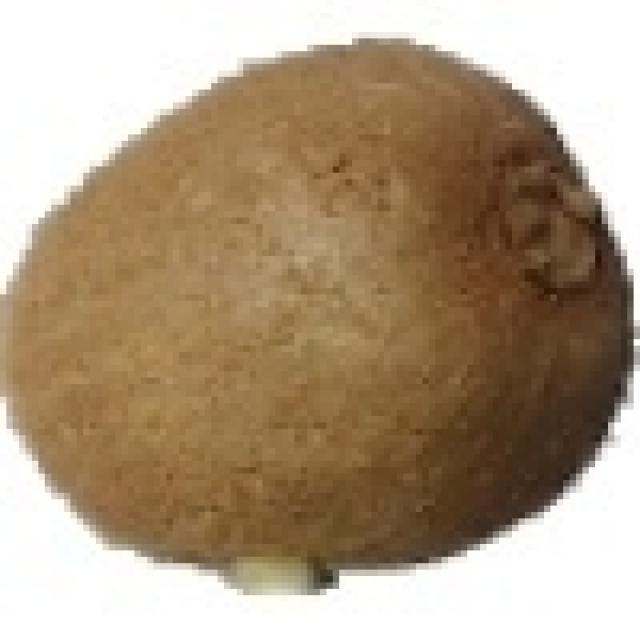kiwi: (0, 32, 621, 576)
